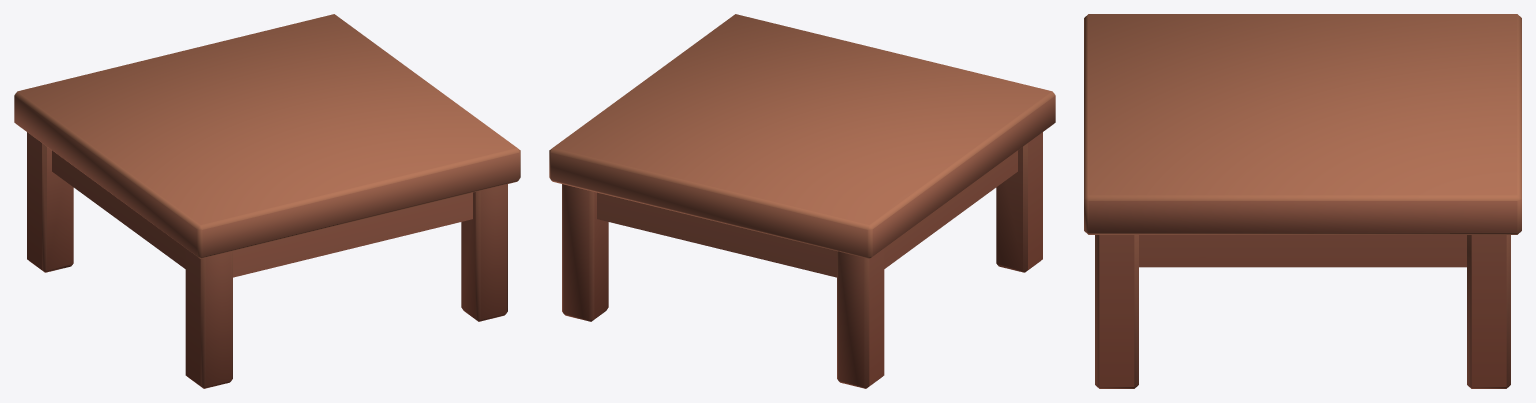
The model's file is table_medium.glb.
The picture shows the model from 3 angles, left to right: view 1: azimuth 30°, elevation 25°; view 2: azimuth 150°, elevation 25°; view 3: azimuth 270°, elevation 25°; orthographic projection. The views are drawn at different scales.
Parts seen in each view (by area): view 1: table_medium; view 2: table_medium; view 3: table_medium.
Part boxes in pixels (left/top/right/bottom): table_medium: left=14, top=14, right=520, bottom=388; table_medium: left=549, top=14, right=1055, bottom=388; table_medium: left=1084, top=14, right=1521, bottom=388.
Size of the model in its own units: 2 by 1 by 2.
1 material, 1 textured.
